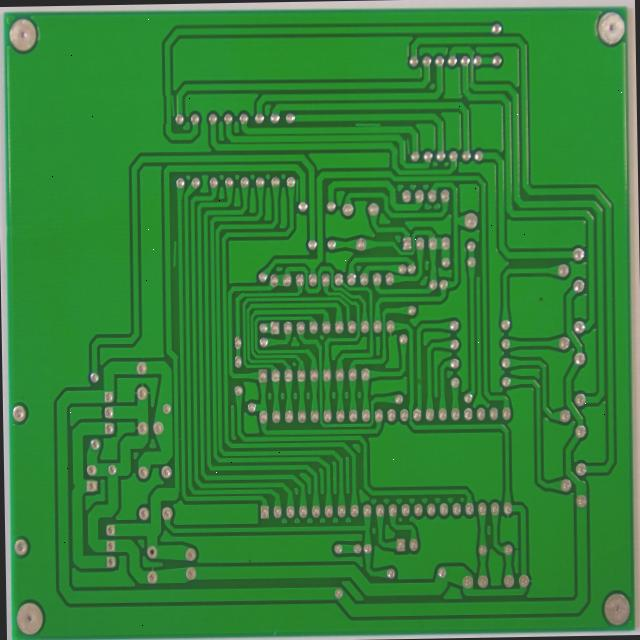spurious_copper: (341, 121, 377, 135), (154, 246, 168, 281), (280, 182, 293, 213), (155, 95, 165, 124), (396, 140, 406, 163)
